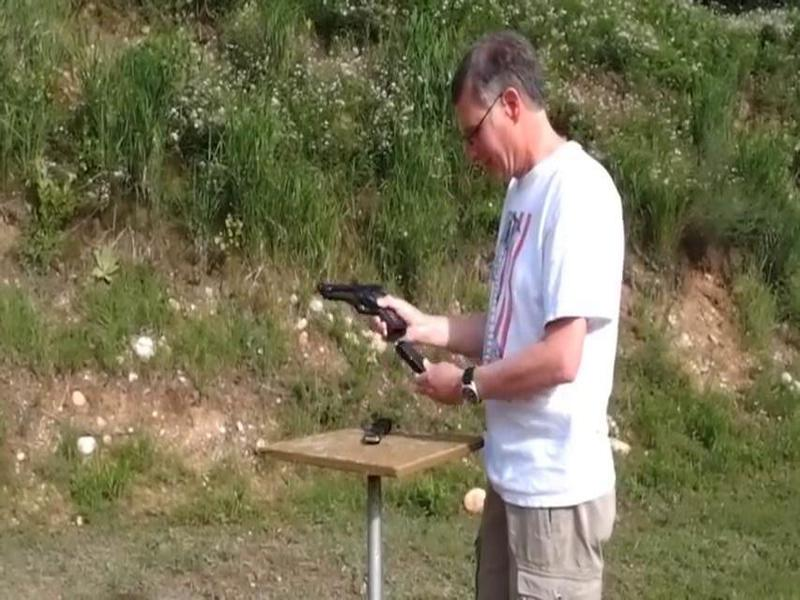Revolver: (322, 267, 425, 349)
